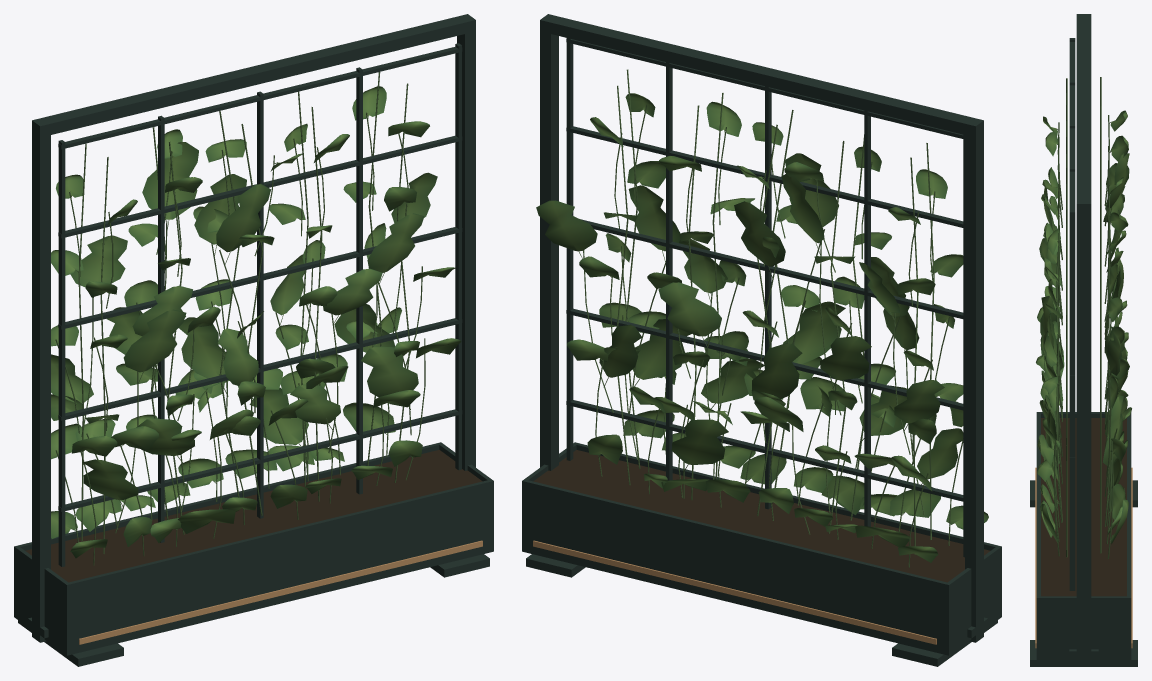
Rendered from botanicalDivider-3.glb.
The picture shows the model from 3 angles, left to right: view 1: azimuth 30°, elevation 25°; view 2: azimuth 150°, elevation 25°; view 3: azimuth 270°, elevation 25°; orthographic projection. The views are drawn at different scales.
Parts seen in each view (by area): view 1: Botanical_powdercoat, Botanical_living_foliage, Botanical_recessed_soil, Botanical_connected_stems, Botanical_frame_finish; view 2: Botanical_powdercoat, Botanical_living_foliage, Botanical_recessed_soil, Botanical_connected_stems, Botanical_frame_finish; view 3: Botanical_powdercoat, Botanical_living_foliage, Botanical_recessed_soil, Botanical_connected_stems, Botanical_frame_finish.
Boxes of the visible parts, x1,y1,x2,y2 form: Botanical_powdercoat: (14,14,493,666); Botanical_living_foliage: (51,86,461,558); Botanical_recessed_soil: (25,450,482,582); Botanical_connected_stems: (55,72,425,565); Botanical_frame_finish: (79,540,482,644); Botanical_powdercoat: (522,14,1001,666); Botanical_living_foliage: (536,93,988,562); Botanical_recessed_soil: (533,450,990,582); Botanical_connected_stems: (578,69,963,567); Botanical_frame_finish: (533,540,936,644); Botanical_powdercoat: (1030,14,1137,666); Botanical_living_foliage: (1036,110,1131,544); Botanical_recessed_soil: (1041,418,1126,596); Botanical_connected_stems: (1052,77,1113,558); Botanical_frame_finish: (1035,467,1132,648).
Size of the model in its own units: 2 by 2.3 by 0.4798.
